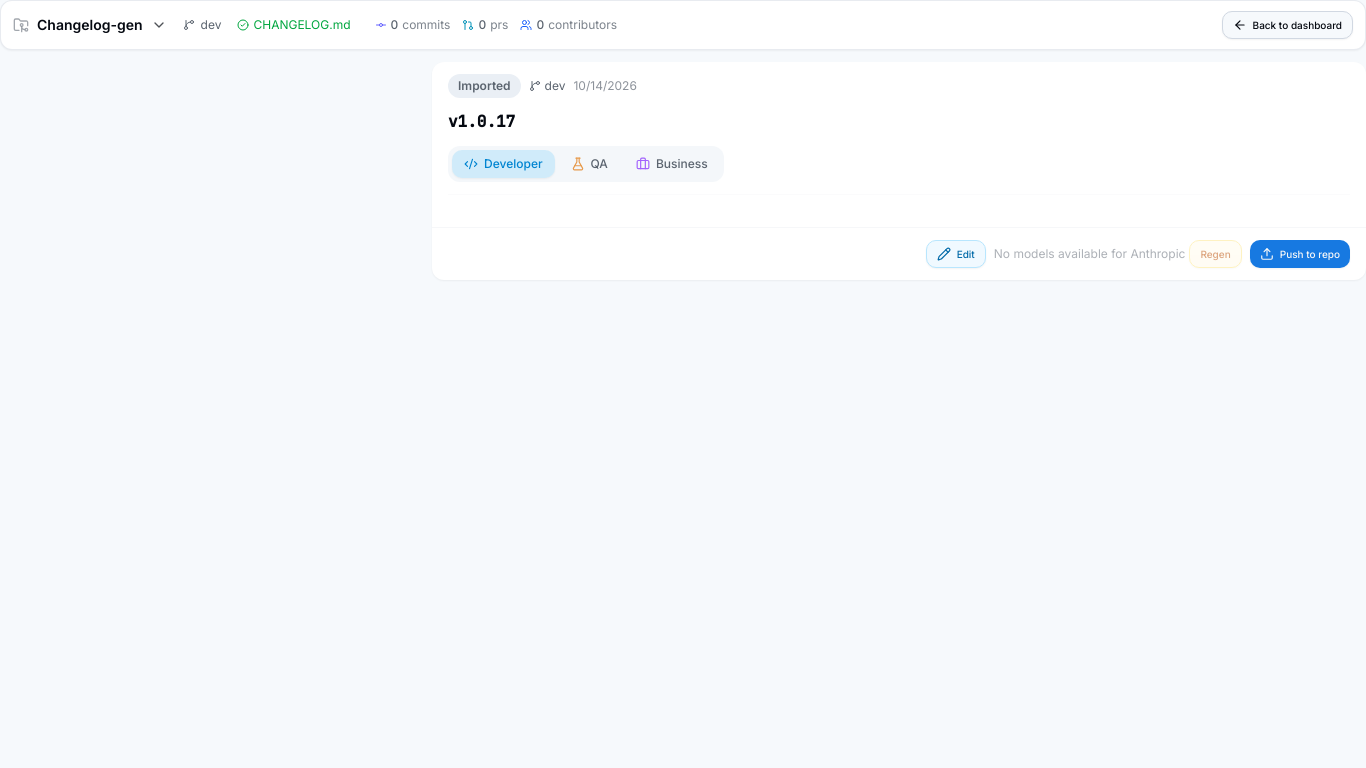
Test: GenerateChangelogPage — version history detail › asks for explicit confirmation before updating an existing repo entry
Click the button "Push to repo". click: (1300, 254)
box: [1250, 240, 1350, 268]
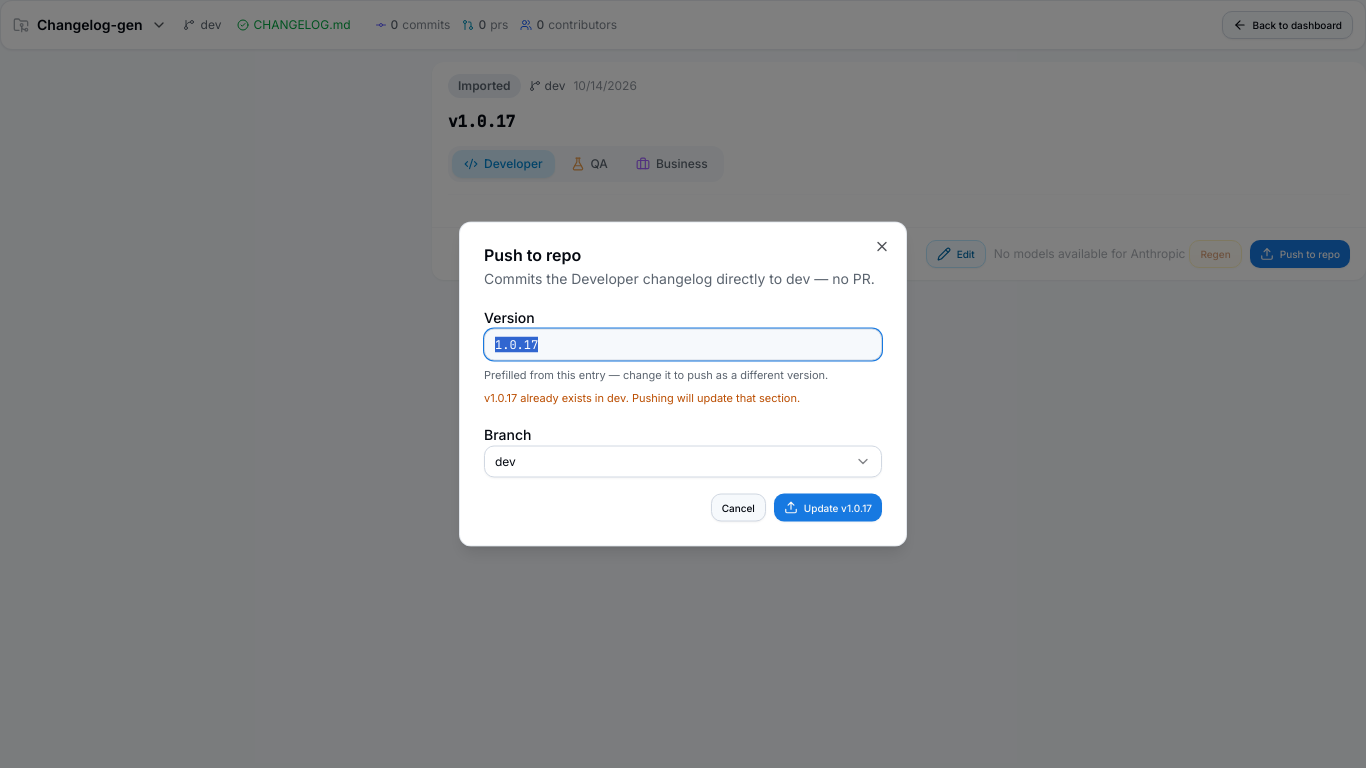
Now the text "Pushing will update that section" is shown, box [626, 390, 800, 404]
Click the button "Update v1.0.17". click: (828, 508)
box: [774, 494, 882, 522]
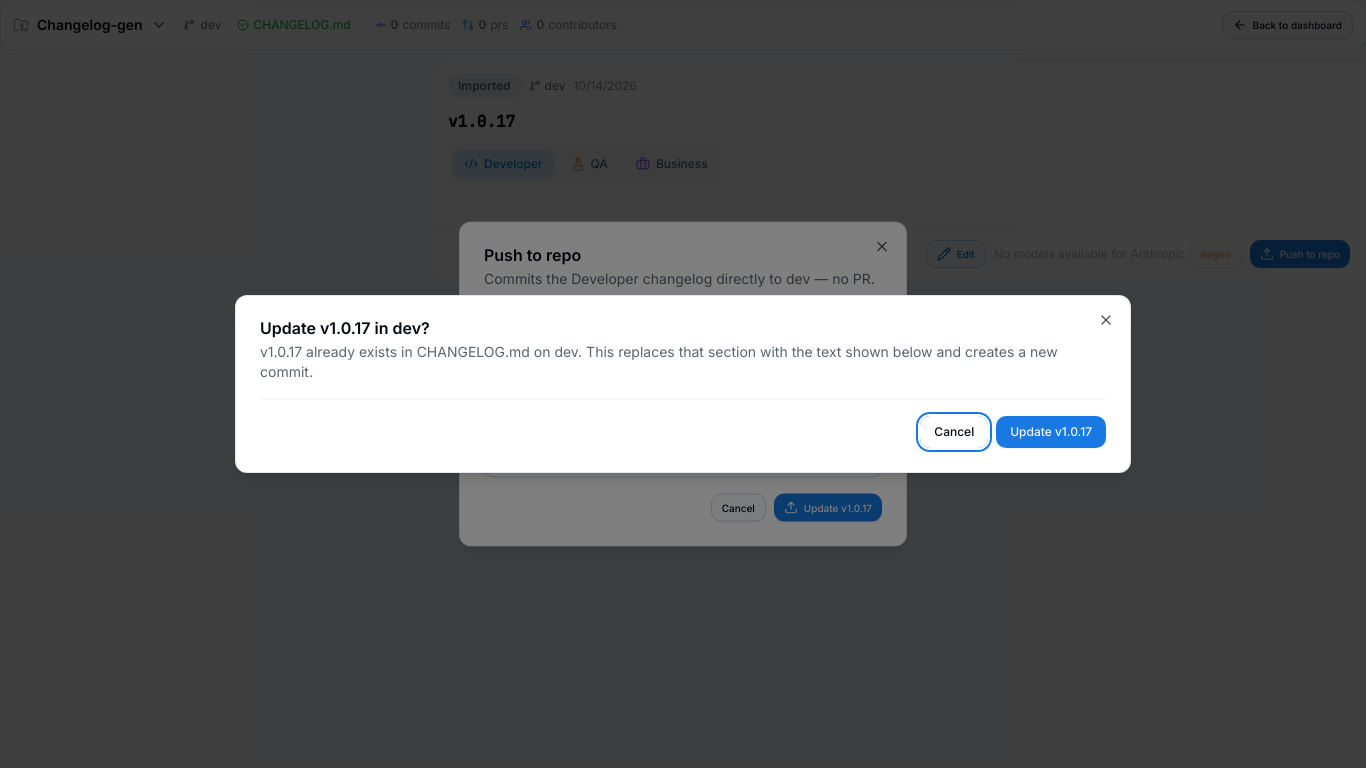
Now the text "This replaces that section with the text shown below" is shown, box [260, 343, 1058, 380]
